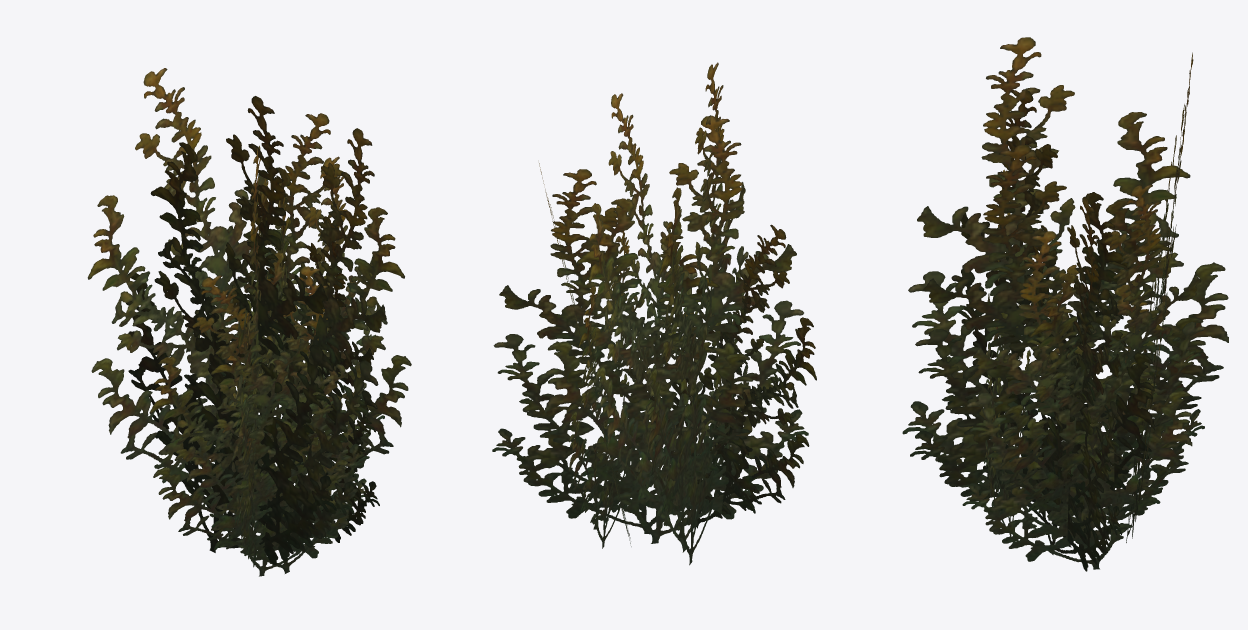
File: yw_leinabao_guanmu01.FBX
The picture shows the model from 3 angles, left to right: view 1: azimuth 30°, elevation 25°; view 2: azimuth 150°, elevation 25°; view 3: azimuth 270°, elevation 25°; orthographic projection. The views are drawn at different scales.
Visible parts, largest first — view 1: yw_leinabao_guanmu01; view 2: yw_leinabao_guanmu01; view 3: yw_leinabao_guanmu01.
Boxes of the visible parts, x1,y1,x2,y2 form: yw_leinabao_guanmu01: [87, 68, 411, 576]; yw_leinabao_guanmu01: [492, 62, 816, 565]; yw_leinabao_guanmu01: [902, 37, 1228, 571].
Size of the model in its own units: 266 by 363 by 206.
